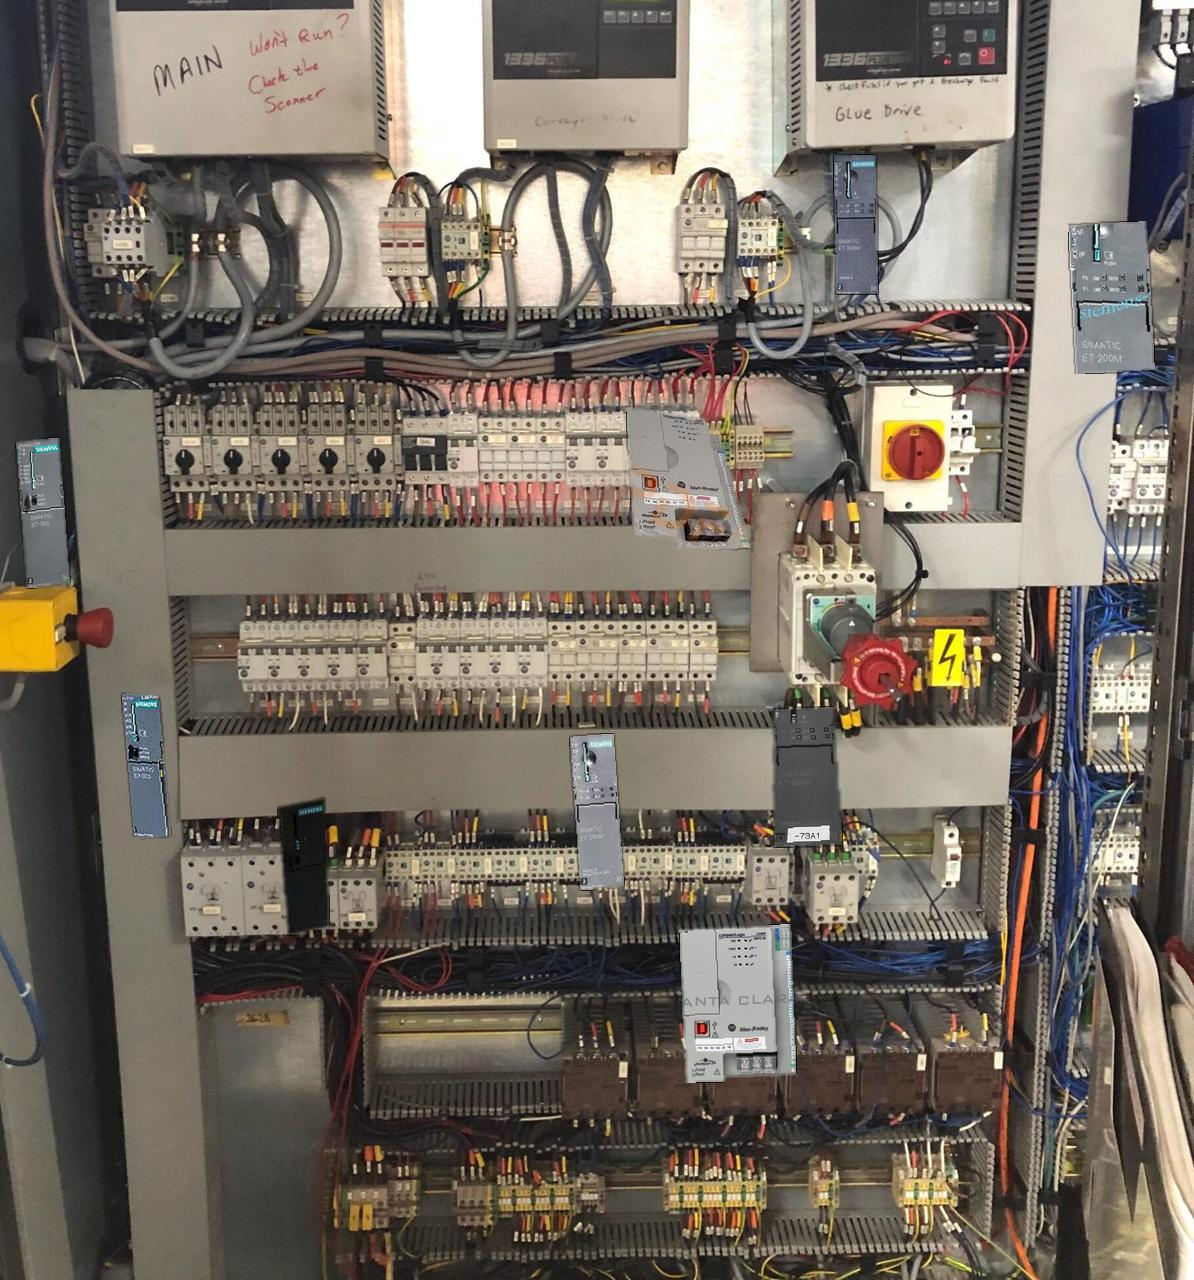AllenBradley: (679, 924, 795, 1083), (626, 407, 748, 547)
Siemens: (16, 438, 68, 587), (278, 798, 328, 934), (122, 694, 169, 837)
